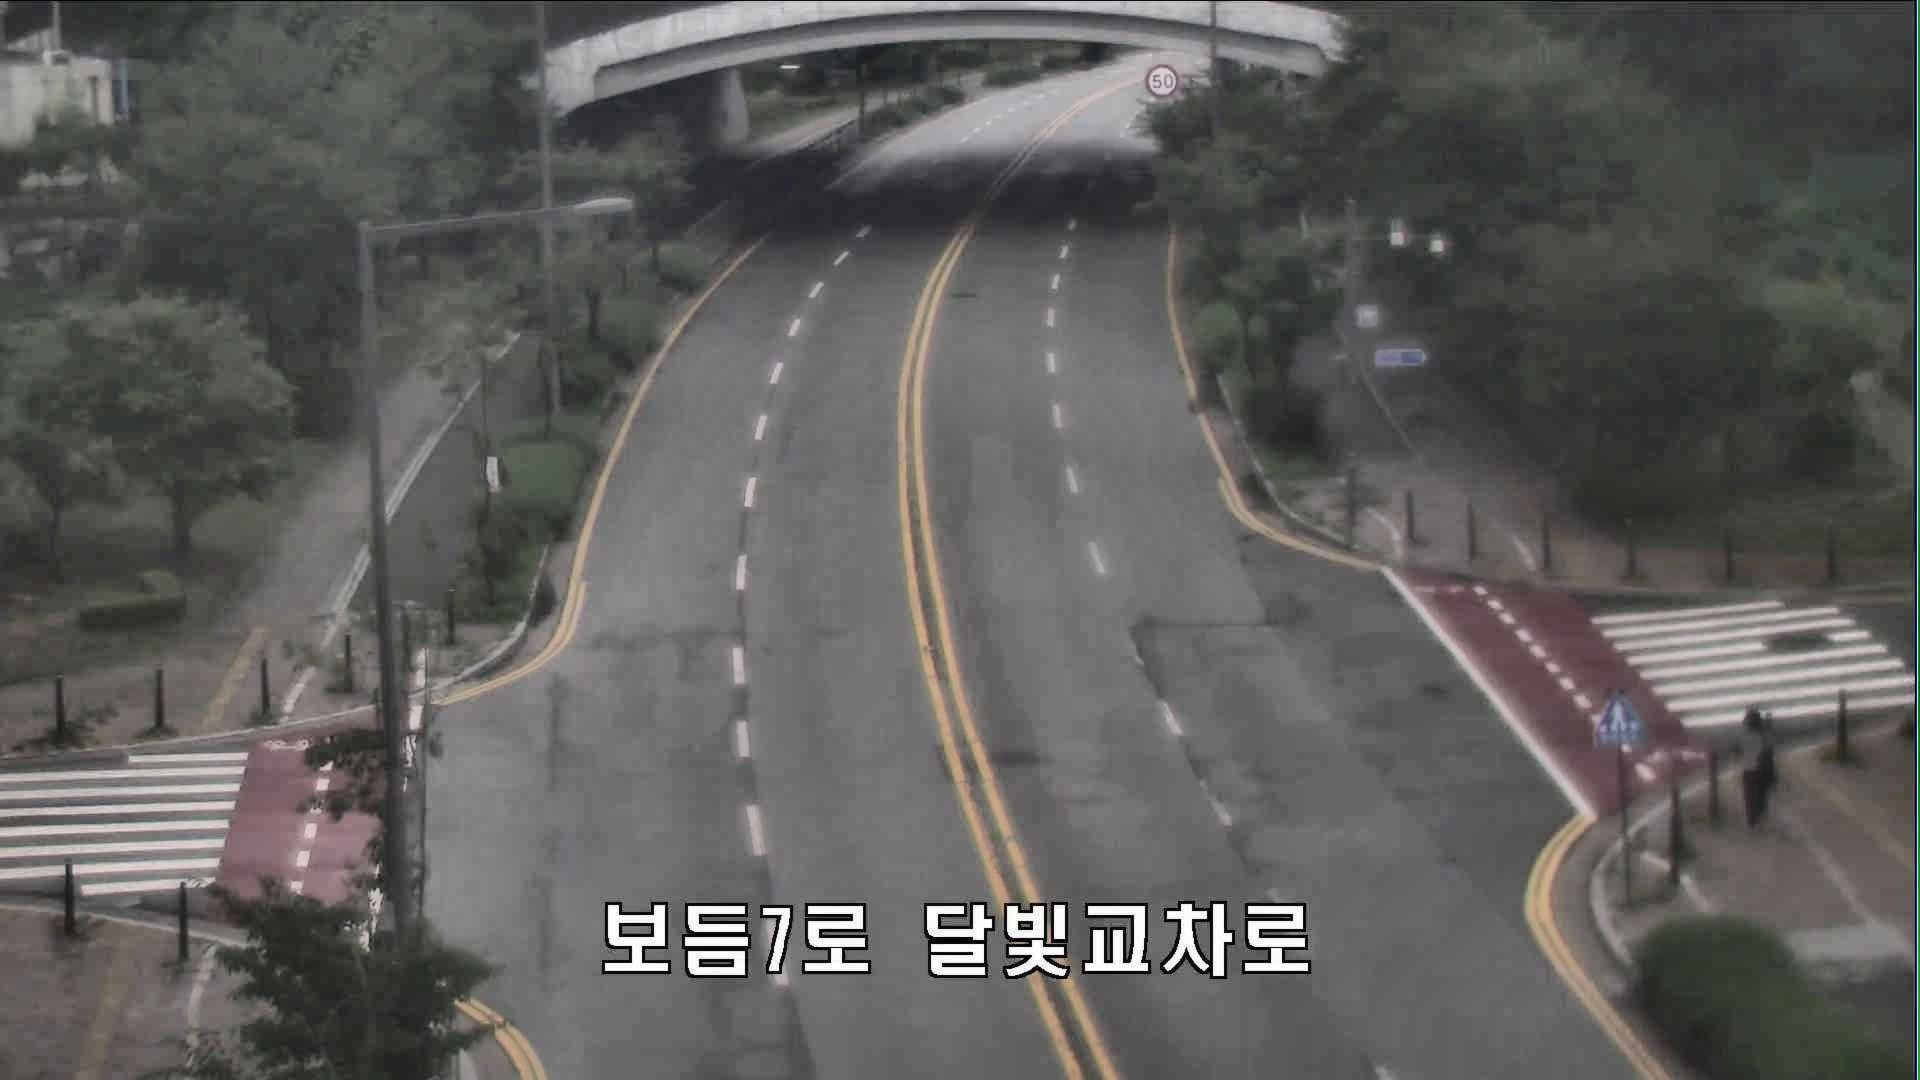sidewalk: (1735, 708, 1776, 824)
